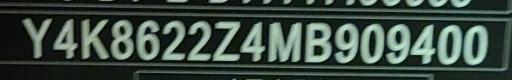letter: (264, 20, 302, 62), (20, 16, 54, 59), (208, 20, 242, 60), (78, 17, 110, 59), (158, 17, 188, 61), (50, 17, 80, 59), (237, 19, 267, 61), (302, 20, 332, 62), (358, 20, 386, 64), (332, 20, 360, 63), (184, 20, 212, 63), (460, 24, 488, 66), (410, 20, 436, 63), (384, 21, 410, 64), (436, 23, 462, 65), (109, 18, 135, 59), (135, 19, 161, 60)
